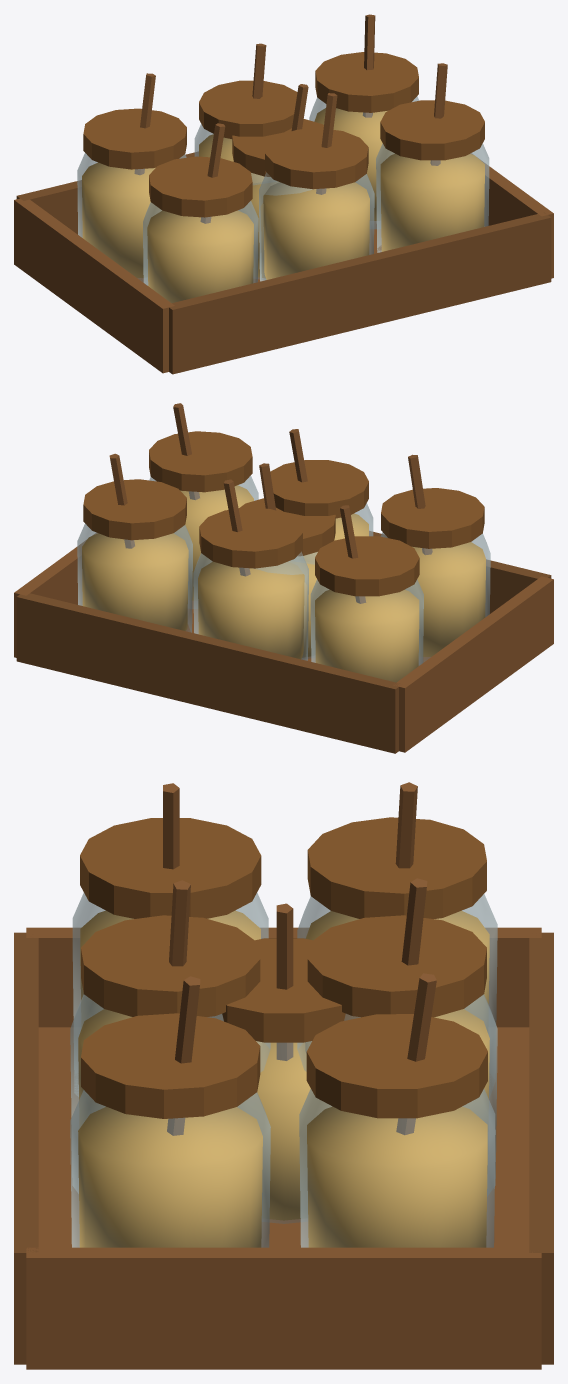
The model's file is Ranch_Honey.fbx.
3 views of the same model, one above another, from view 1: azimuth 30°, elevation 25°; view 2: azimuth 150°, elevation 25°; view 3: azimuth 270°, elevation 25° (orthographic). The views are drawn at different scales.
Parts seen in each view (by area): view 1: Ranch_Honey__Stack, Ranch_Honey; view 2: Ranch_Honey__Stack, Ranch_Honey; view 3: Ranch_Honey__Stack, Ranch_Honey.
Boxes of the visible parts, x1=… form: Ranch_Honey__Stack: x1=14, y1=14, x2=553, y2=374; Ranch_Honey: x1=232, y1=84, x2=323, y2=279; Ranch_Honey__Stack: x1=14, y1=403, x2=553, y2=753; Ranch_Honey: x1=239, y1=463, x2=335, y2=659; Ranch_Honey__Stack: x1=14, y1=782, x2=553, y2=1369; Ranch_Honey: x1=208, y1=903, x2=360, y2=1223.
Size of the model in its own units: 0.2538 by 0.1205 by 0.1753.
